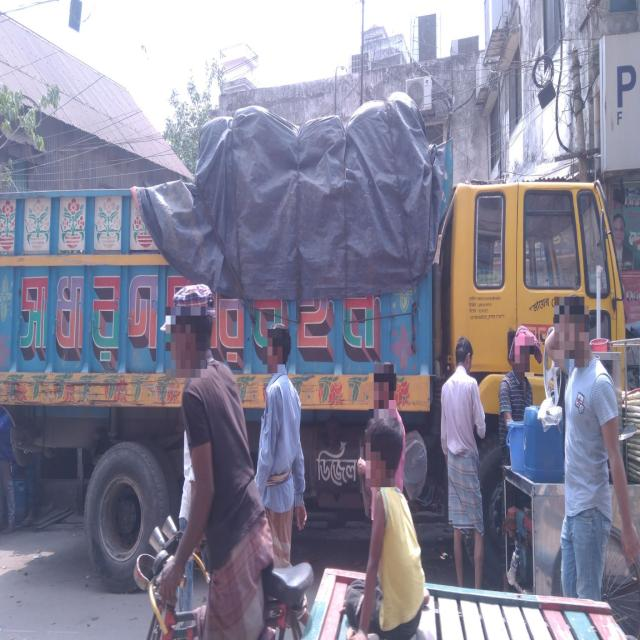truck: (3, 98, 634, 561)
